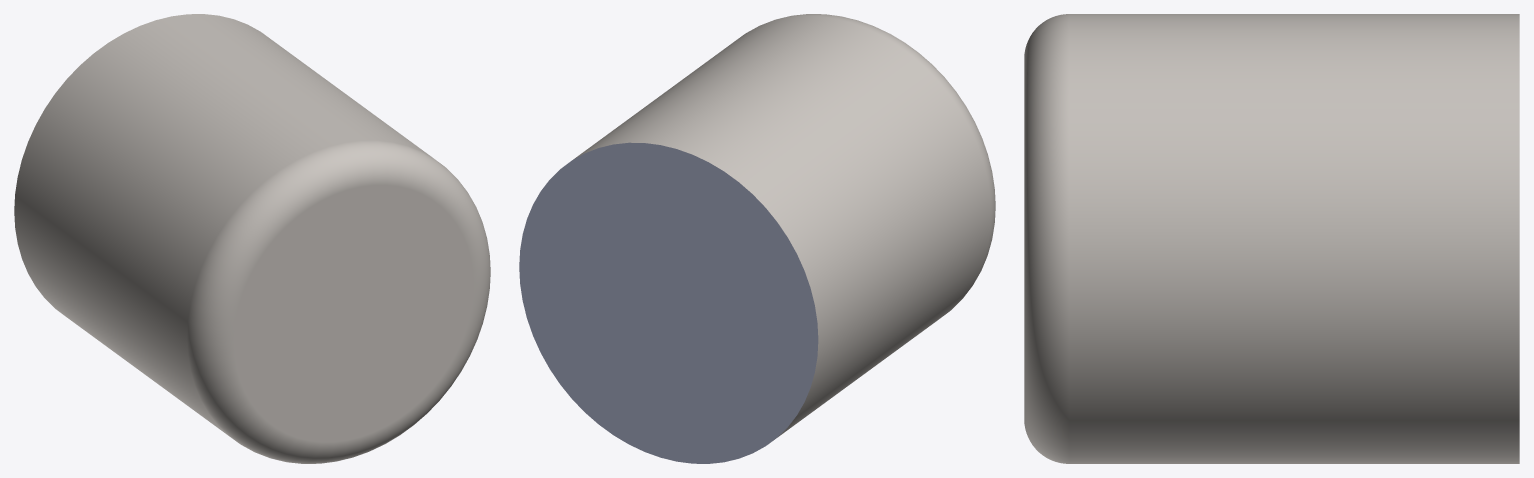
Rendered from Gear_Motor__1__Fillet5_1_.obj.
The picture shows the model from 3 angles, left to right: view 1: azimuth 30°, elevation 25°; view 2: azimuth 150°, elevation 25°; view 3: azimuth 270°, elevation 25°; orthographic projection. The views are drawn at different scales.
Visible parts, largest first — view 1: mesh7547, mesh7545, mesh7546; view 2: mesh7547, mesh7548, mesh7546; view 3: mesh7547, mesh7546.
Part boxes in pixels (x1=…): mesh7547: x1=14, y1=14, x2=431, y2=436; mesh7545: x1=234, y1=185, x2=473, y2=441; mesh7546: x1=187, y1=140, x2=490, y2=463; mesh7547: x1=573, y1=16, x2=990, y2=440; mesh7548: x1=519, y1=142, x2=818, y2=463; mesh7546: x1=749, y1=14, x2=995, y2=309; mesh7547: x1=1069, y1=14, x2=1519, y2=463; mesh7546: x1=1024, y1=14, x2=1069, y2=463.
Size of the model in its own units: 0.002 by 0.002 by 0.0022.
